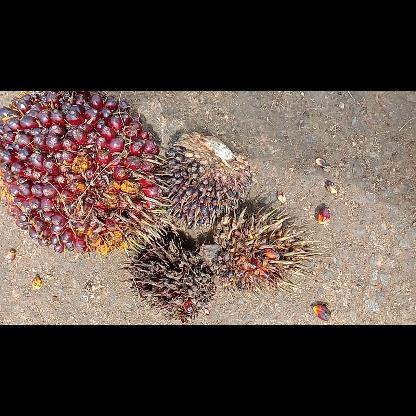TBS abnormal: (197, 207, 317, 297), (157, 128, 253, 228), (124, 228, 216, 316)
TBS masak: (0, 93, 159, 257)
